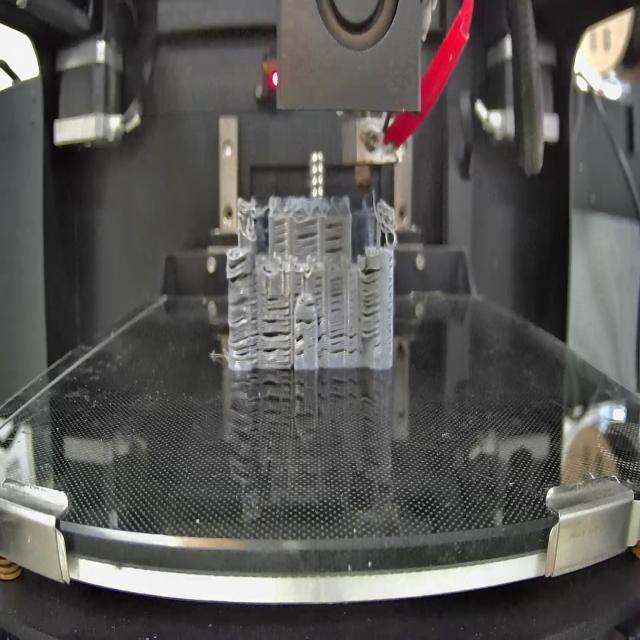cracks: (358, 261, 386, 341), (230, 291, 258, 359), (261, 316, 290, 365), (225, 251, 255, 283), (332, 324, 360, 358), (295, 219, 320, 249), (323, 224, 346, 255), (273, 218, 291, 252), (330, 272, 343, 314), (266, 293, 291, 312), (317, 316, 327, 356), (314, 271, 324, 300), (293, 266, 301, 298), (296, 334, 306, 359), (297, 315, 314, 327), (304, 299, 316, 310)
